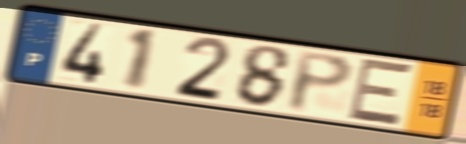1: (121, 27, 160, 91)
2: (175, 35, 234, 105)
4: (57, 20, 107, 87)
8: (236, 43, 293, 109)
E: (344, 56, 417, 129)
P: (286, 48, 356, 115)
